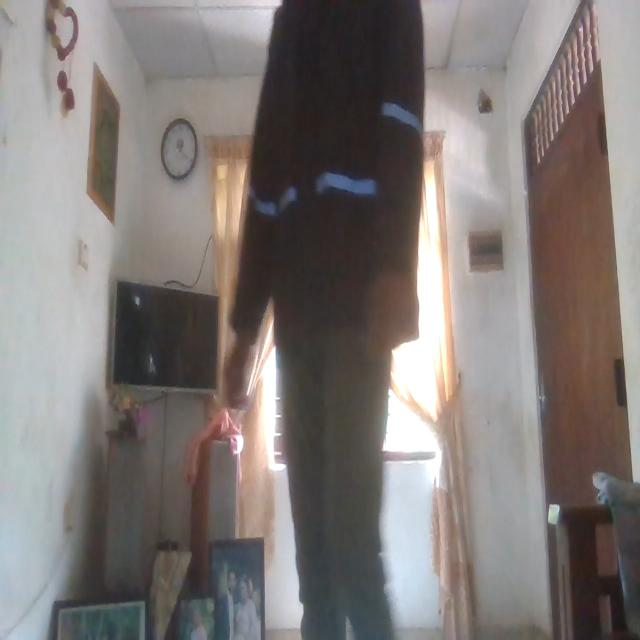Jacket_Wearer: (230, 0, 426, 385)
Person: (238, 0, 435, 640)
